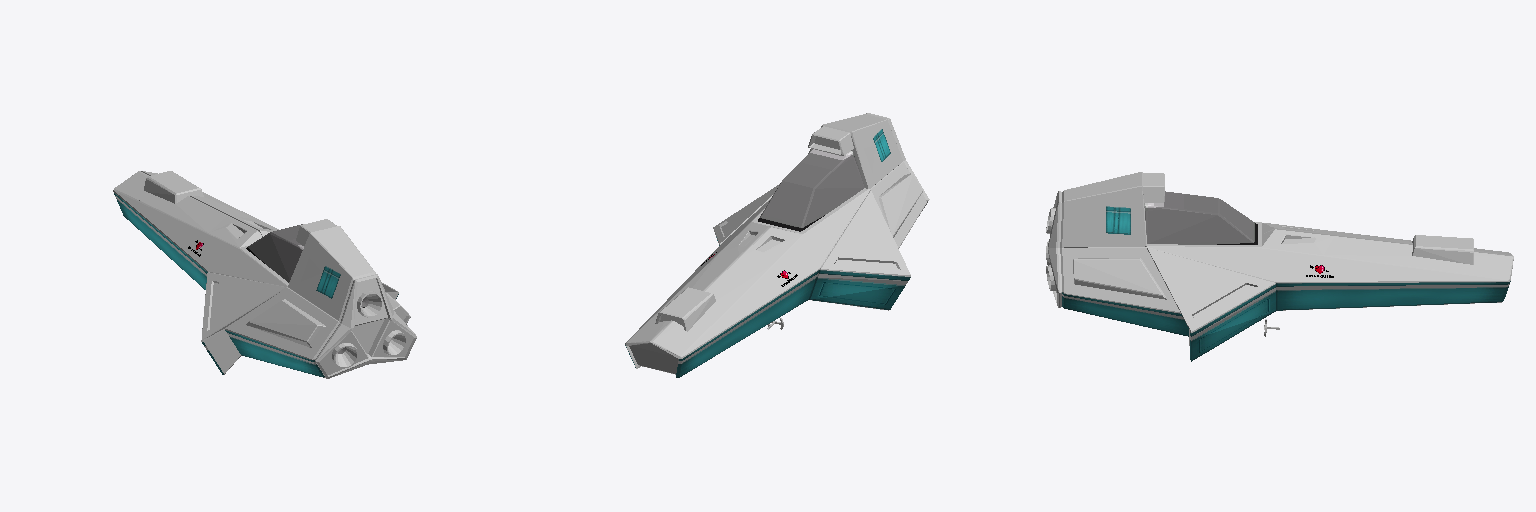
3 views of the same model, side by side, from view 1: azimuth 30°, elevation 25°; view 2: azimuth 150°, elevation 25°; view 3: azimuth 270°, elevation 25° (orthographic).
Visible parts, largest first — view 1: 20_kingmeteor_a; view 2: 20_kingmeteor_a; view 3: 20_kingmeteor_a.
Part boxes in pixels (bbox=[...]): 20_kingmeteor_a: bbox=[113, 171, 416, 378]; 20_kingmeteor_a: bbox=[625, 113, 929, 377]; 20_kingmeteor_a: bbox=[1046, 172, 1513, 361].
Size of the model in its own units: 2.27 by 1.7 by 4.65.
24 materials, 3 textured.